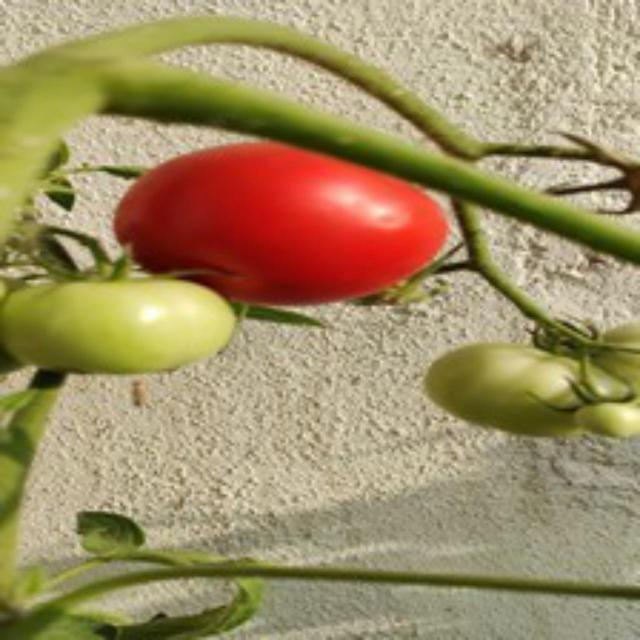tomato: (111, 138, 447, 321)
